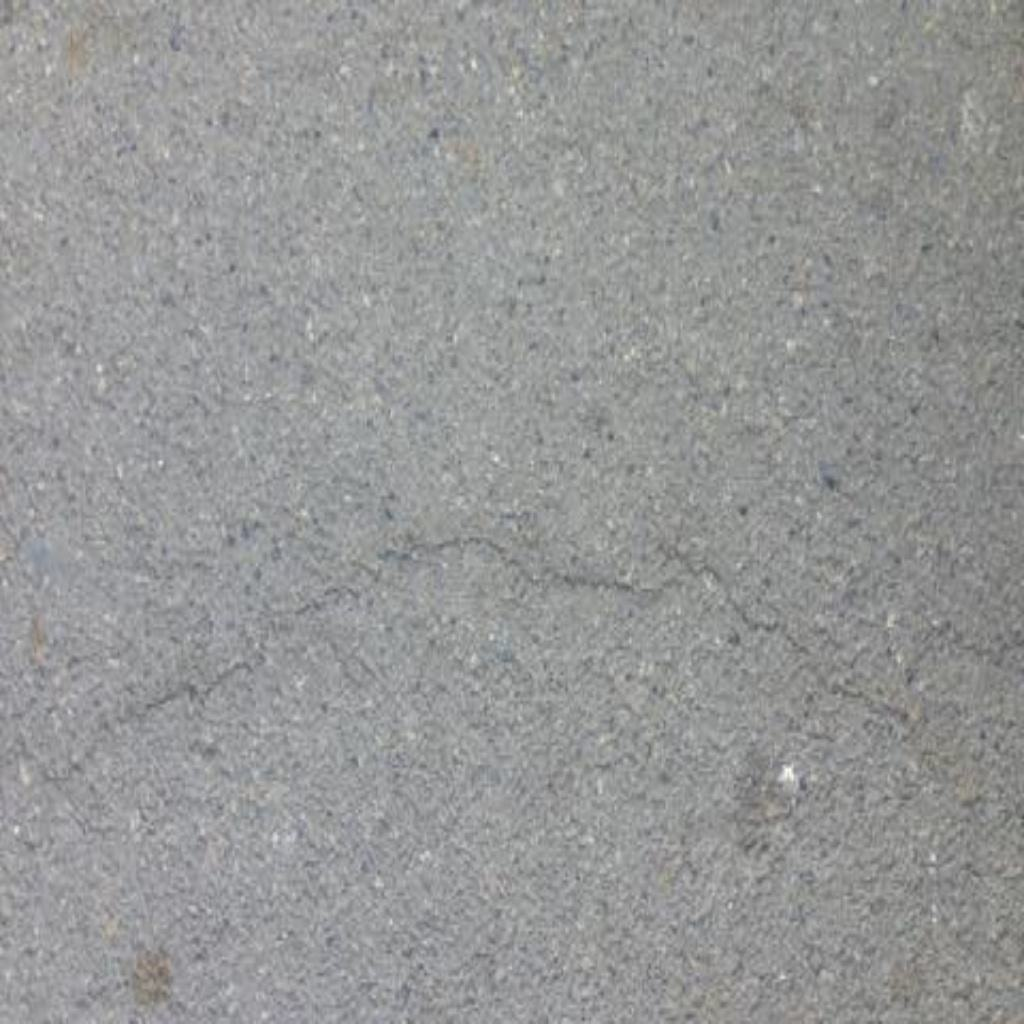Crack: (1, 534, 812, 778)
